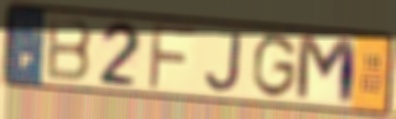2: (94, 18, 146, 91)
B: (44, 15, 96, 85)
F: (145, 20, 199, 93)
G: (250, 32, 300, 100)
J: (203, 30, 245, 94)
M: (293, 31, 359, 109)
